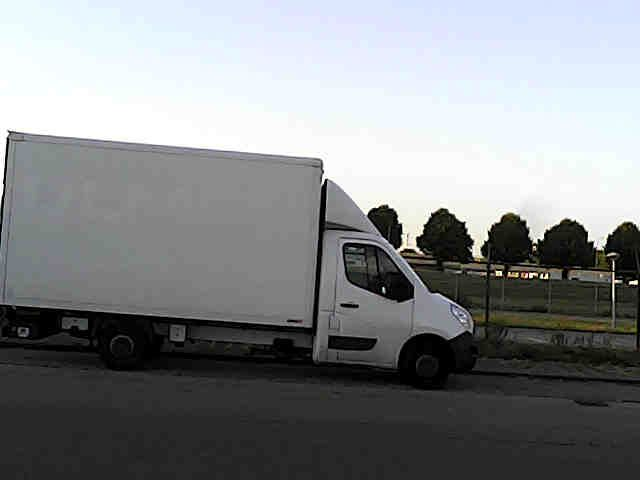whitevan: (0, 132, 475, 385)
